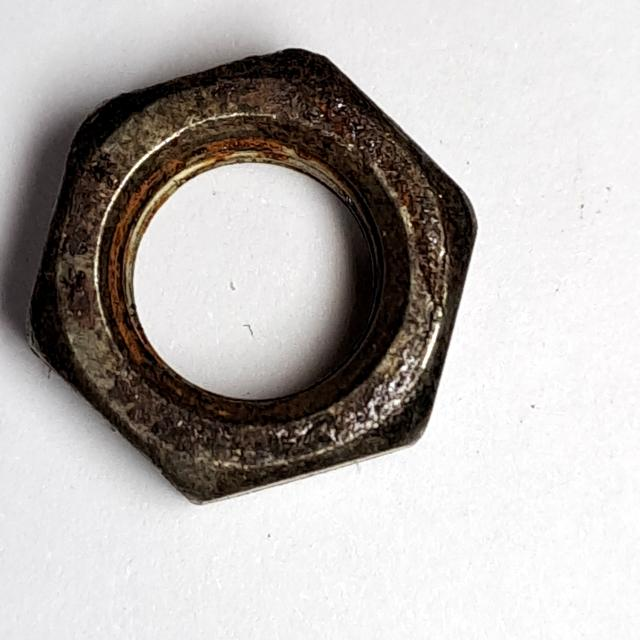Rust: (12, 34, 494, 525)
